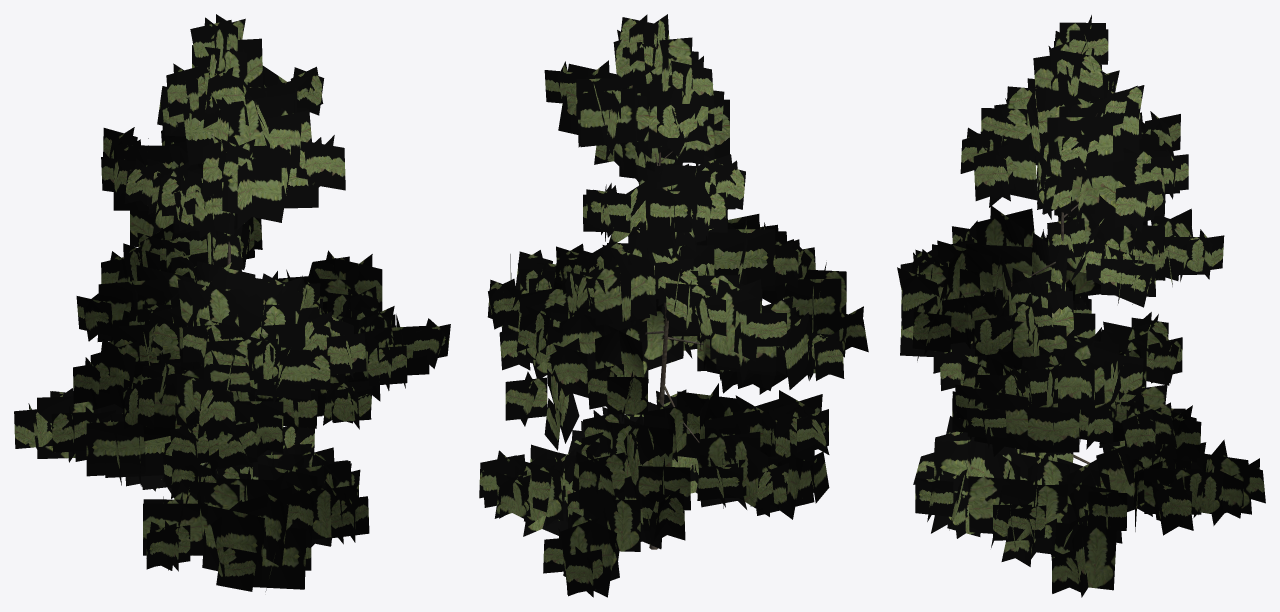
The model's file is fir_sapling.glb.
3 views of the same model, side by side, from view 1: azimuth 30°, elevation 25°; view 2: azimuth 150°, elevation 25°; view 3: azimuth 270°, elevation 25° (orthographic). The views are drawn at different scales.
Parts seen in each view (by area): view 1: fir_sapling; view 2: fir_sapling; view 3: fir_sapling.
Boxes of the visible parts, x1,y1,x2,y2 form: fir_sapling: (14,14,450,591); fir_sapling: (479,14,868,597); fir_sapling: (897,15,1265,597).
Size of the model in its own units: 0.9108 by 1.29 by 0.8382.
Materials: 2 (2 with a texture image).
